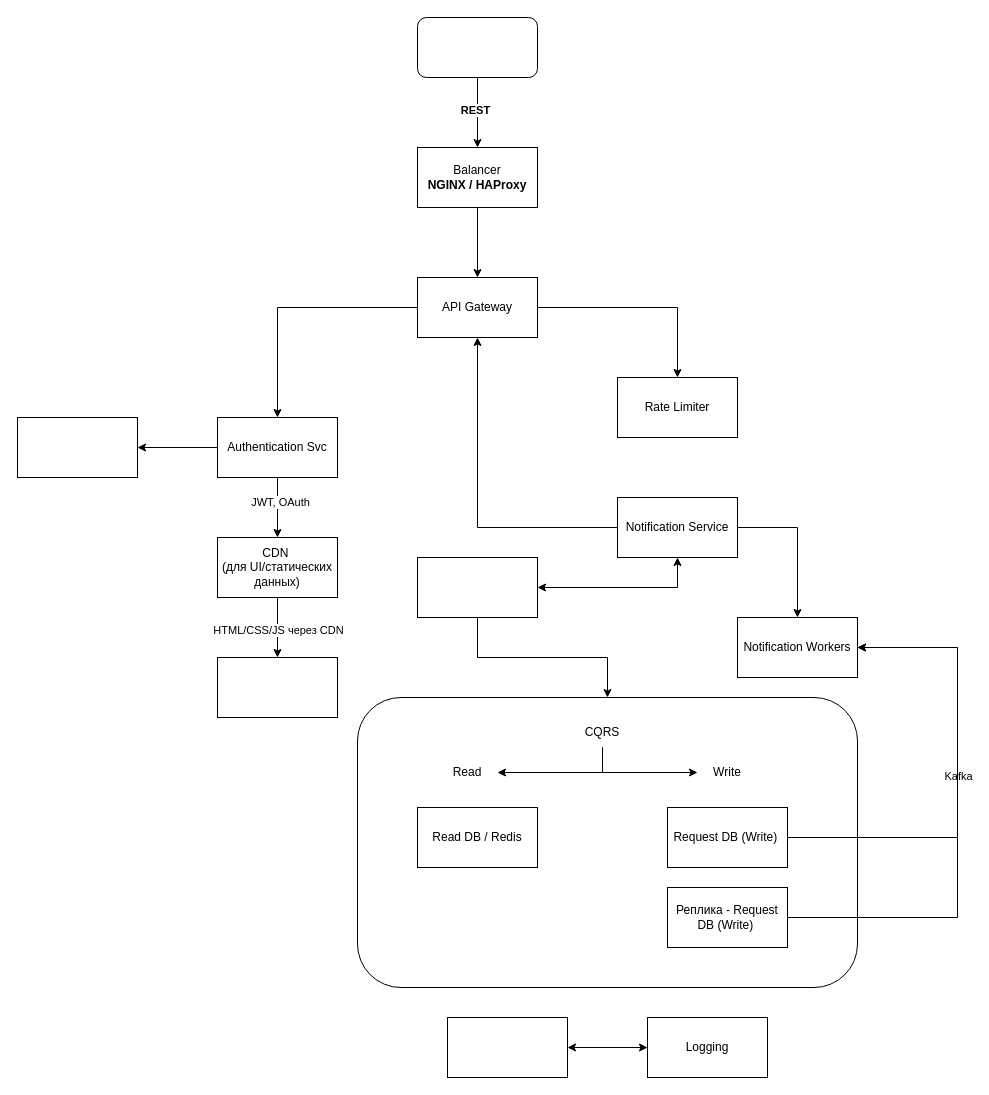
Image size: 989x1095. Some labels were removed from this diagram. The centre of each missing label's shape, as x and y in pixels:
"Admin Panel" goes at point (77, 447).
"Front UI" goes at point (277, 687).
"Monitoring (Prometheus)" goes at point (507, 1047).
"Request Service" goes at point (477, 587).
"User" goes at point (477, 47).
